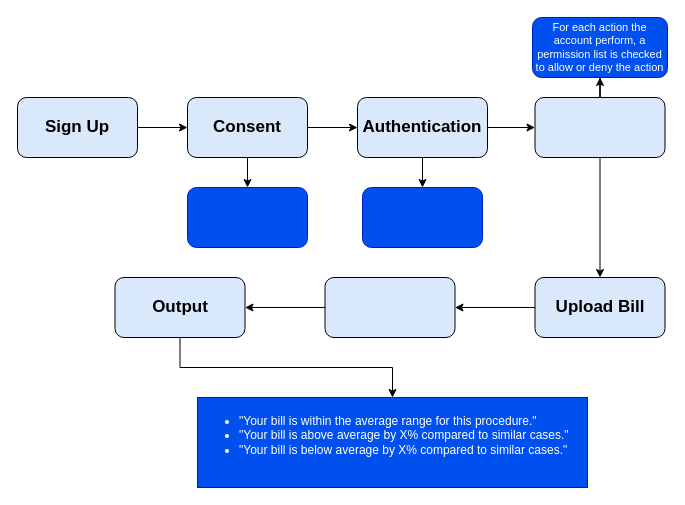
This 685x505 diagram has some shape labels left out. The shapes that lost their labels are listed below. From the top down, each one's centre as x and y in pixels, then its label:
At (x=599, y=127): "Authorization".
At (x=247, y=217): "Data Protection Policies".
At (x=422, y=217): "Email Address Phone Number".
At (x=389, y=307): "Analysis".
